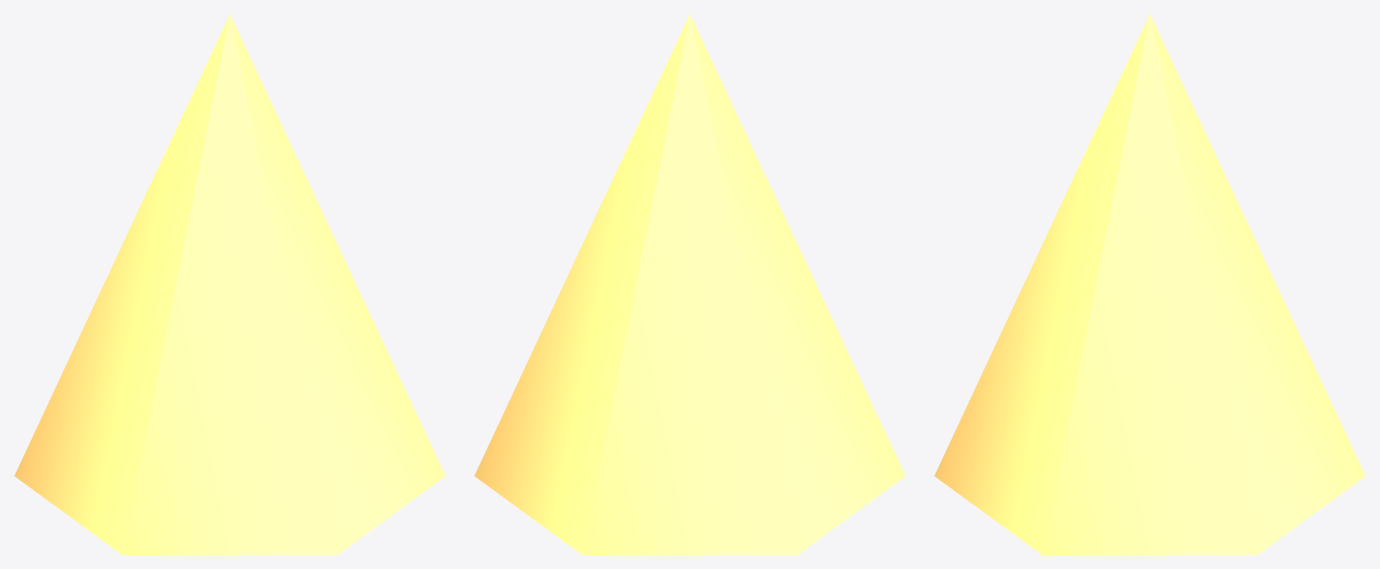
The model's file is wall-sconce-lit.gltf.
3 views of the same model, side by side, from view 1: azimuth 30°, elevation 25°; view 2: azimuth 150°, elevation 25°; view 3: azimuth 270°, elevation 25° (orthographic).
Visible parts, largest first — view 1: Sconce; view 2: Sconce; view 3: Sconce.
Part boxes in pixels (bbox=[...]): Sconce: bbox=[14, 14, 445, 554]; Sconce: bbox=[474, 14, 905, 554]; Sconce: bbox=[934, 14, 1365, 554].
Size of the model in its own units: 0.1905 by 0.26 by 0.22.
